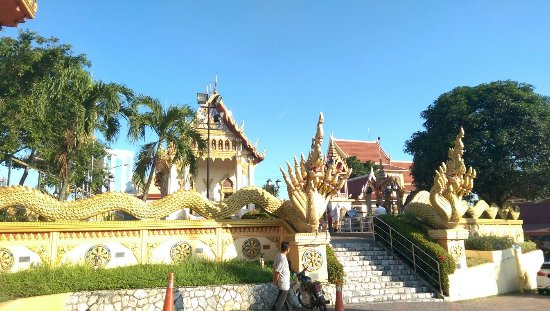Buddhist Temple: (21, 86, 521, 292)
